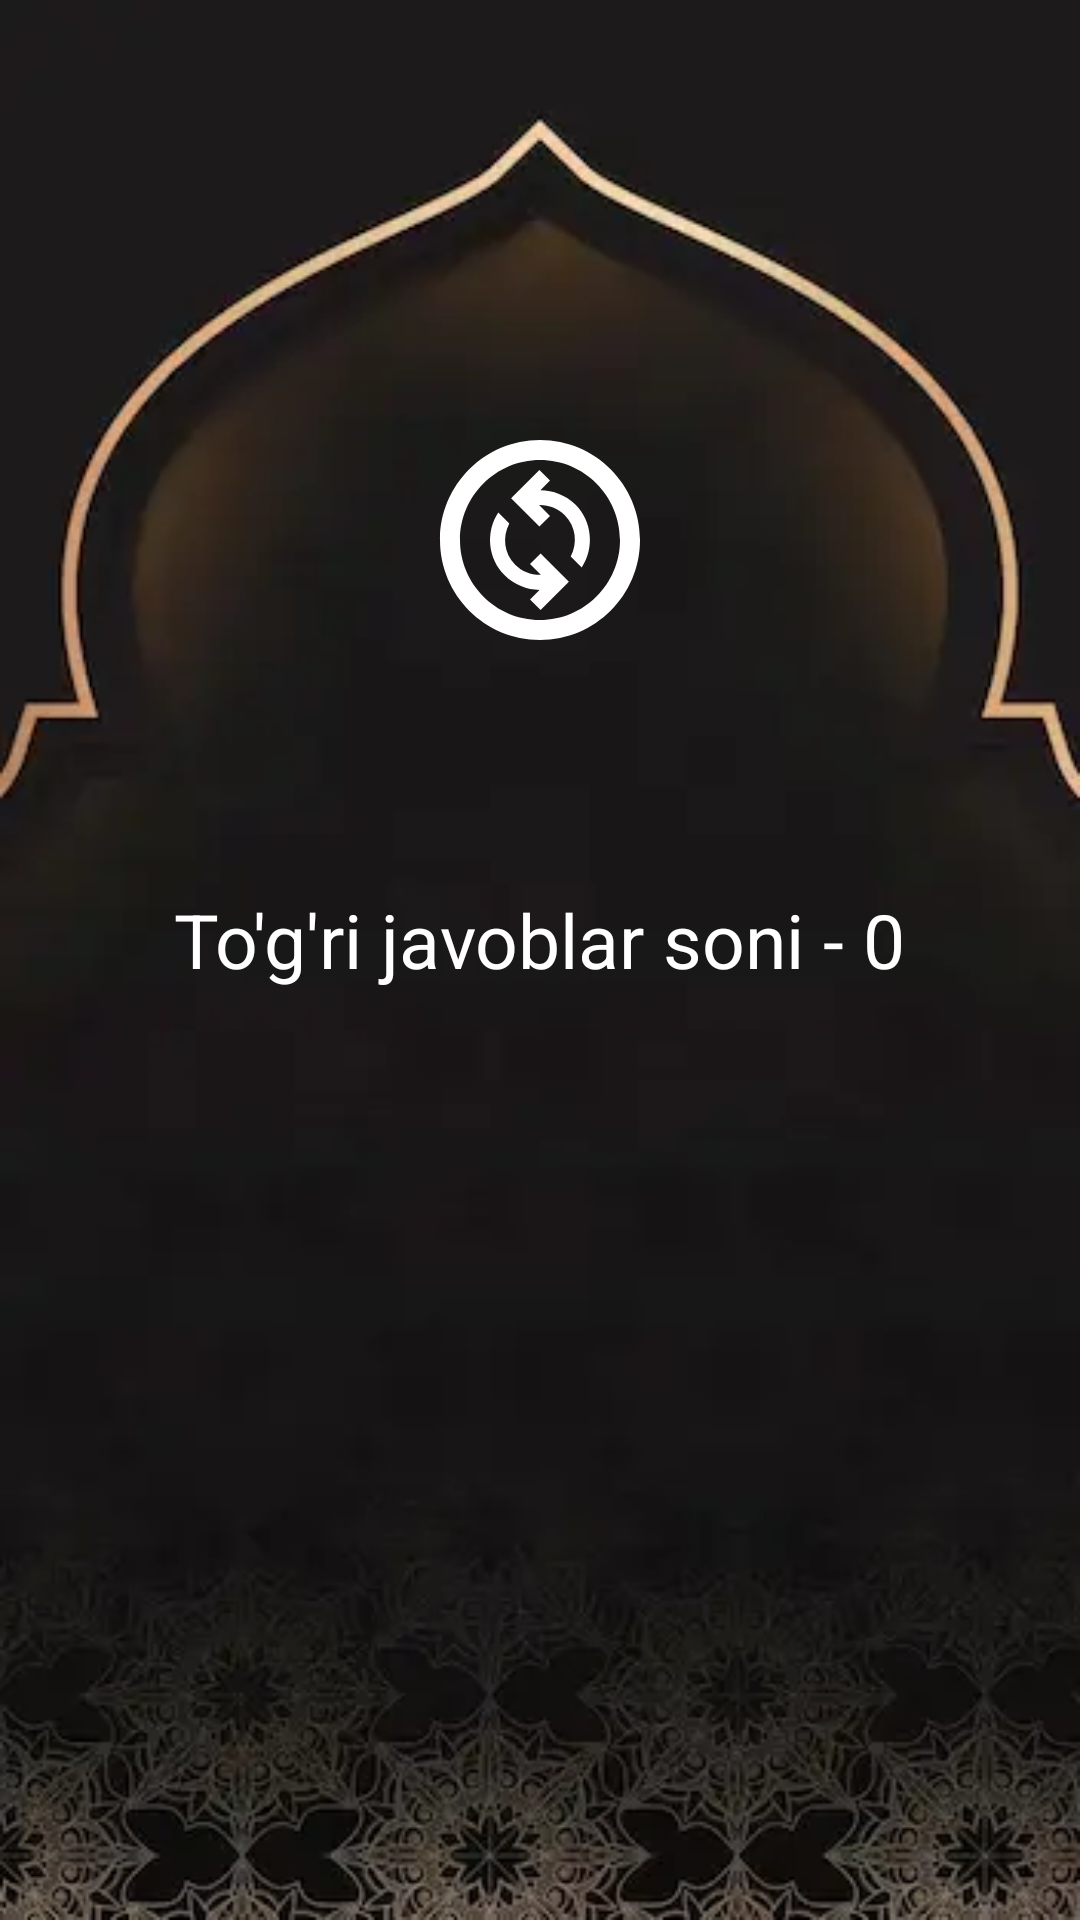

Where icons sit on this 1080px×1920px app screen, as (left=x1, top=y1, right=x2, bottom=y2):
change: (left=440, top=440, right=640, bottom=640)
